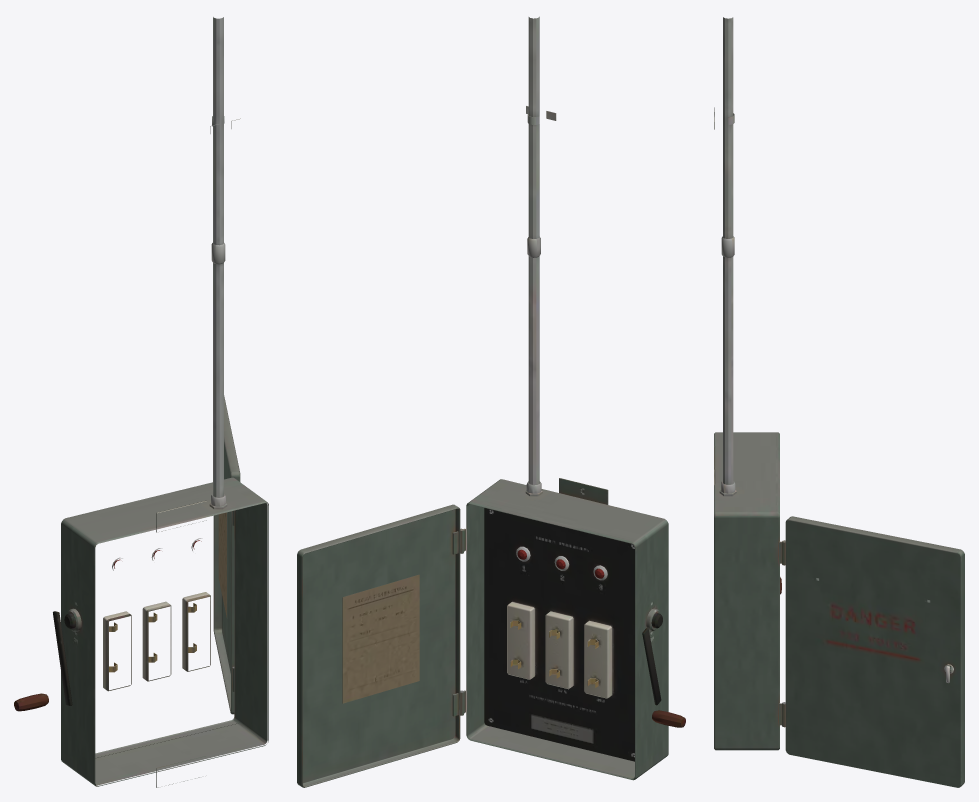
File: fusebox.glb
3 renders of one model, left to right at view 1: azimuth 30°, elevation 25°; view 2: azimuth 150°, elevation 25°; view 3: azimuth 270°, elevation 25°, orthographic. The views are drawn at different scales.
Parts seen in each view (by area): view 1: fusebox_body, fusebox_door, lever; view 2: fusebox_body, fusebox_door, lever; view 3: fusebox_door, fusebox_body.
Boxes of the visible parts, x1,y1,x2,y2 form: fusebox_body: (61, 17, 268, 787); fusebox_door: (213, 395, 240, 714); lever: (14, 611, 75, 711); fusebox_body: (460, 16, 668, 780); fusebox_door: (297, 504, 460, 787); lever: (642, 613, 685, 727); fusebox_door: (785, 516, 964, 787); fusebox_body: (714, 17, 785, 750).
Bounding box in the file's own units: 0.7237 × 1.71 × 0.5339.
4 materials, 1 textured.
